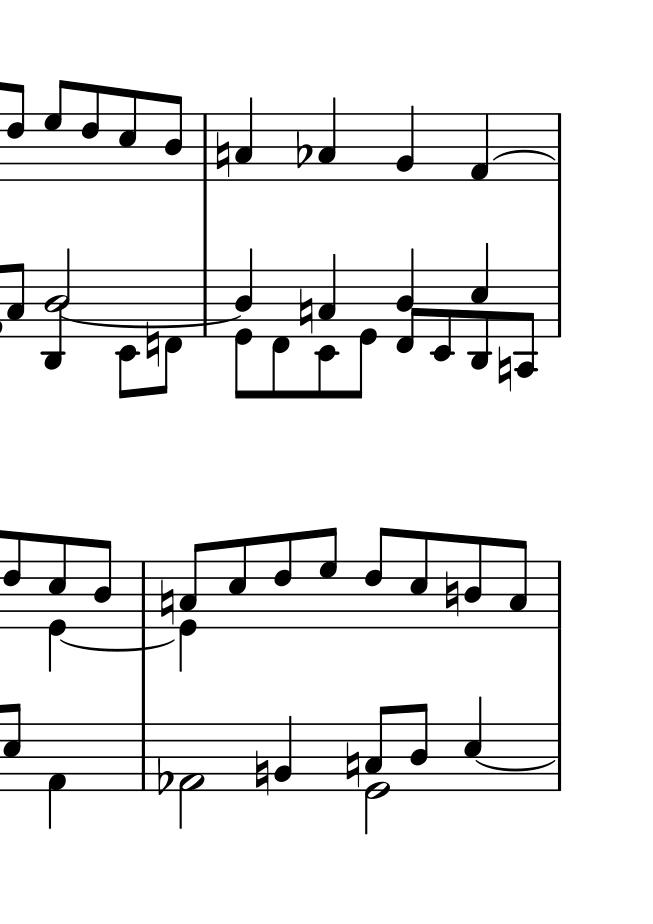2_1: (178, 723, 205, 829)
4_1: (47, 726, 67, 824)
4_2: (395, 103, 418, 183), (273, 713, 294, 791)
4_3: (316, 96, 339, 181), (234, 98, 255, 178)
4_5: (461, 698, 484, 788)
8_-1: (159, 268, 183, 396), (270, 268, 291, 400)
8_-2: (113, 268, 142, 401), (429, 267, 454, 363)
8_-4: (513, 269, 538, 380)
8_0: (351, 267, 379, 399)
8_1: (467, 111, 492, 183)
8_3: (507, 539, 528, 630), (6, 261, 25, 339)
8_4: (463, 534, 486, 630), (409, 700, 431, 793), (92, 539, 113, 629), (163, 95, 184, 182)
8_5: (409, 527, 428, 628), (227, 536, 248, 627), (118, 86, 137, 181), (3, 701, 22, 790)
8_6: (363, 524, 393, 630), (5, 80, 28, 182), (1, 531, 24, 629), (80, 80, 101, 184), (273, 531, 294, 630)
8_7: (42, 78, 68, 182), (318, 526, 339, 630)
Flat: (155, 755, 173, 797), (294, 129, 312, 170)
Natural: (158, 577, 175, 629), (344, 739, 361, 790), (297, 286, 314, 336), (214, 130, 231, 177), (497, 344, 513, 393), (444, 570, 460, 619), (254, 749, 270, 797), (144, 325, 160, 369)
Single_barline: (135, 558, 151, 642), (197, 113, 213, 181), (197, 271, 213, 336), (552, 560, 567, 628), (136, 723, 151, 790), (552, 725, 567, 791), (552, 270, 566, 337), (553, 113, 566, 181)
Slur: (61, 315, 241, 328), (57, 638, 176, 652), (473, 761, 557, 772), (494, 149, 555, 160)
